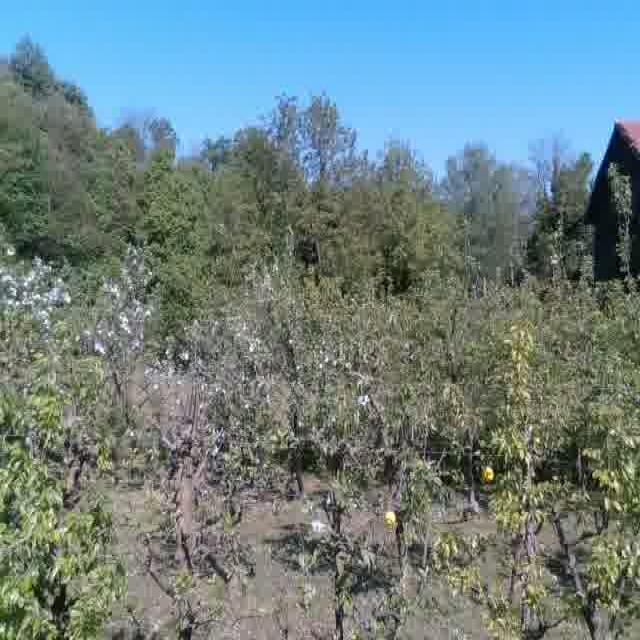yellow: (483, 465, 495, 484), (384, 510, 397, 527)
